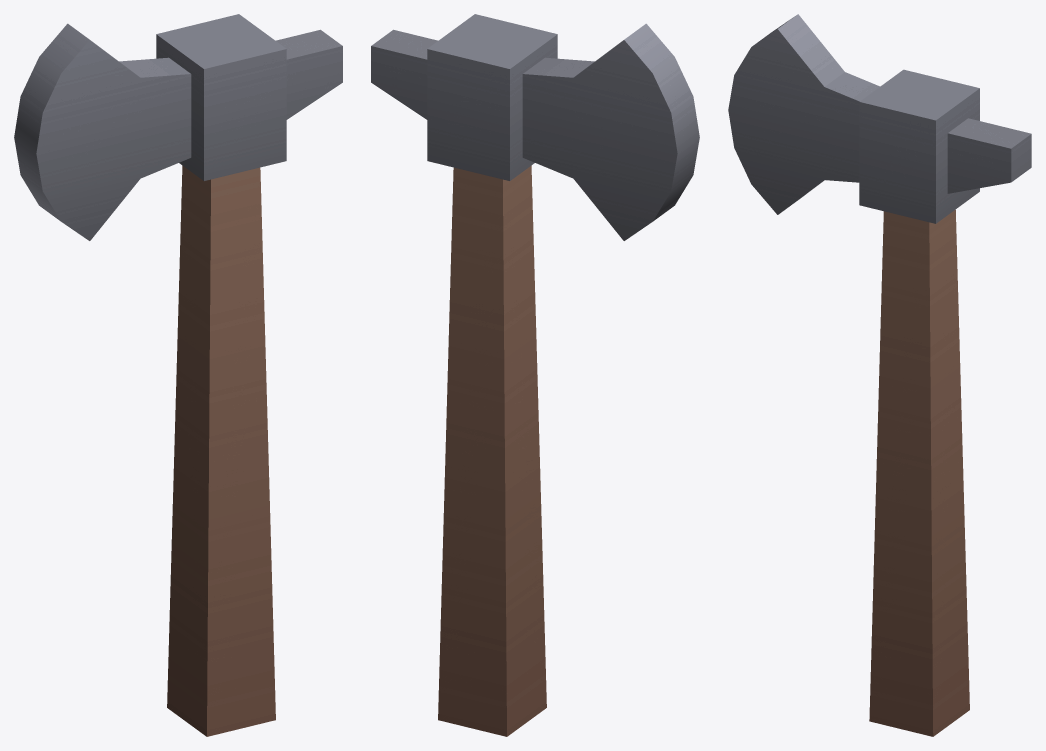
The model's file is axe.glb.
The picture shows the model from 3 angles, left to right: view 1: azimuth 30°, elevation 25°; view 2: azimuth 150°, elevation 25°; view 3: azimuth 330°, elevation 25°; orthographic projection. The views are drawn at different scales.
Visible parts, largest first — view 1: tool-axe; view 2: tool-axe; view 3: tool-axe.
Part boxes in pixels (x1,y1,x2,y2): tool-axe: (14,14,342,736); tool-axe: (371,14,699,736); tool-axe: (728,14,1031,736).
Size of the model in its own units: 0.3034 by 0.6784 by 0.082.
1 material, 1 textured.
